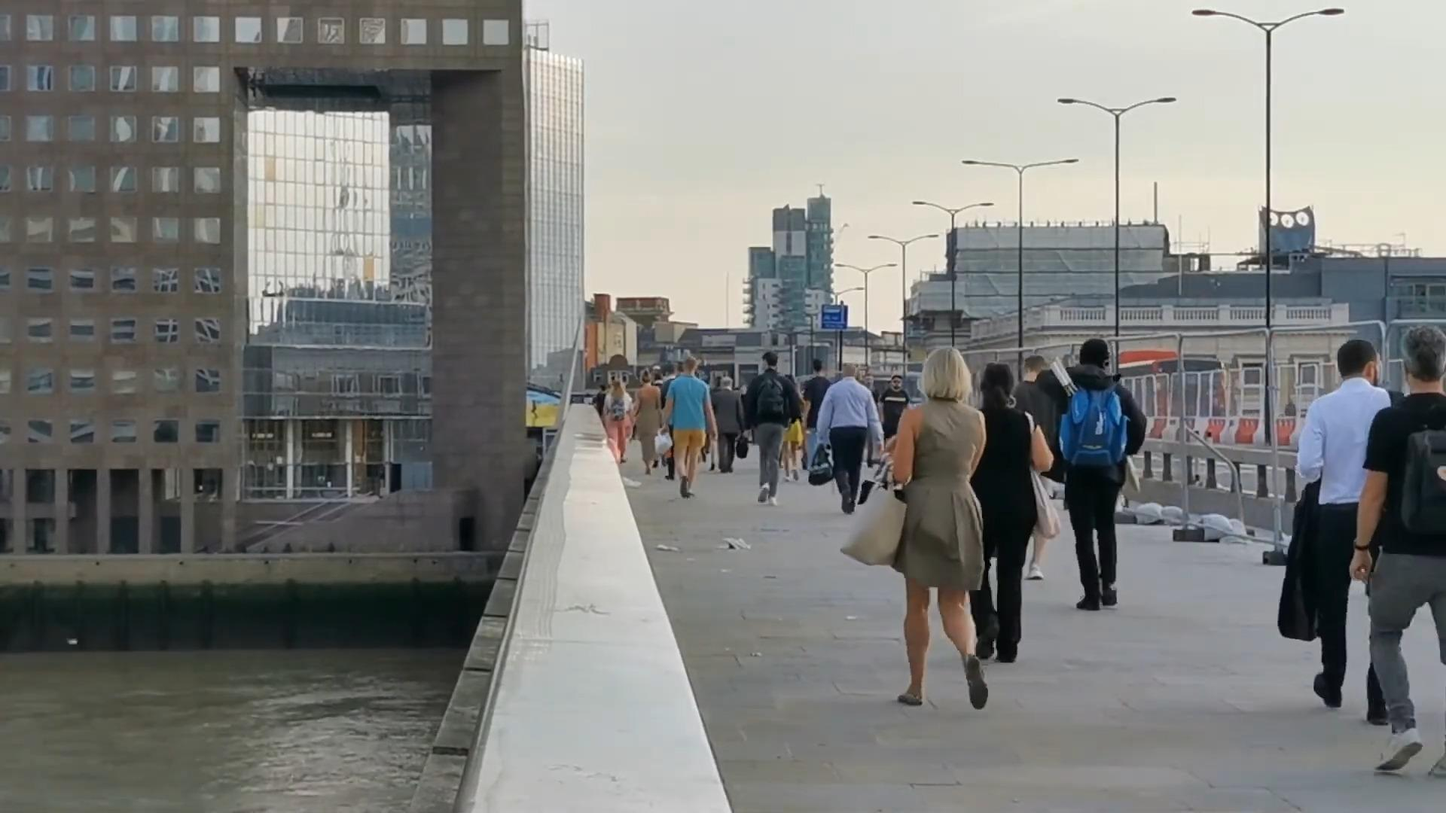no-helmet: (917, 347, 973, 404), (1400, 323, 1446, 387), (1337, 339, 1384, 387), (981, 362, 1013, 410), (1079, 339, 1110, 372), (1023, 356, 1045, 382), (761, 351, 779, 373), (682, 356, 699, 375)
